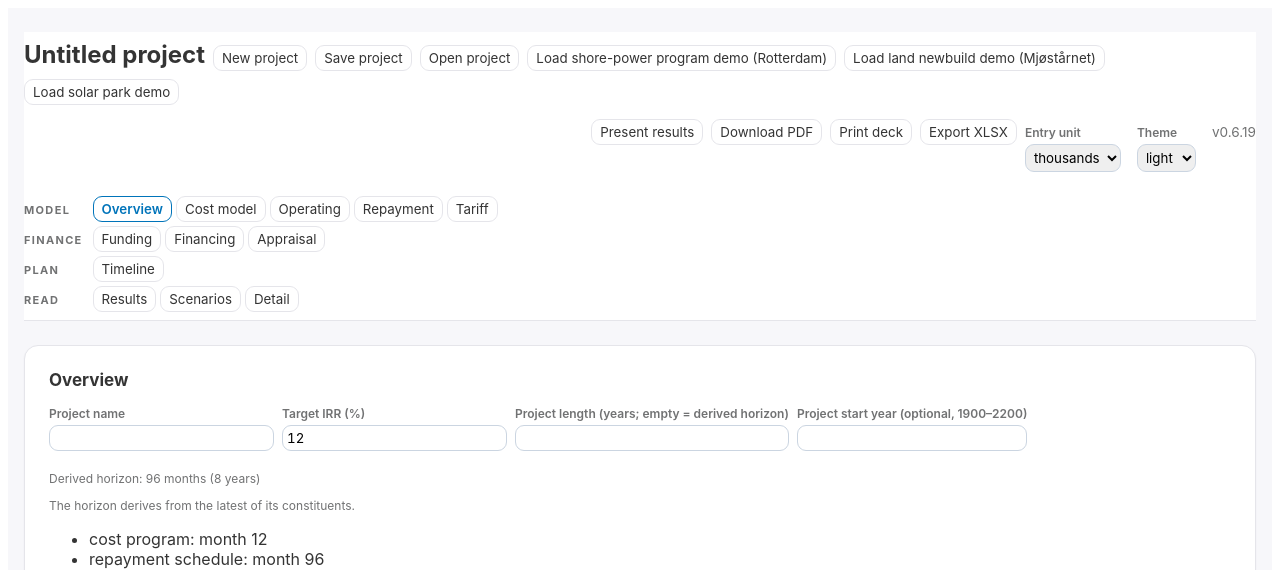
Test: v0.6.10 Task E.1: the funding worksuite surface › FUNDING-ROWS: the program fixture's funding block carries the three grants alone; the interest-free note retired into the financing facility list (v0.6.16 re-an
What coordinates should you click on to do the following:
click the button "Load shore-power program demo (Rotterdam)"
I would click on:
 (682, 58)
Its box is [527, 45, 836, 71].
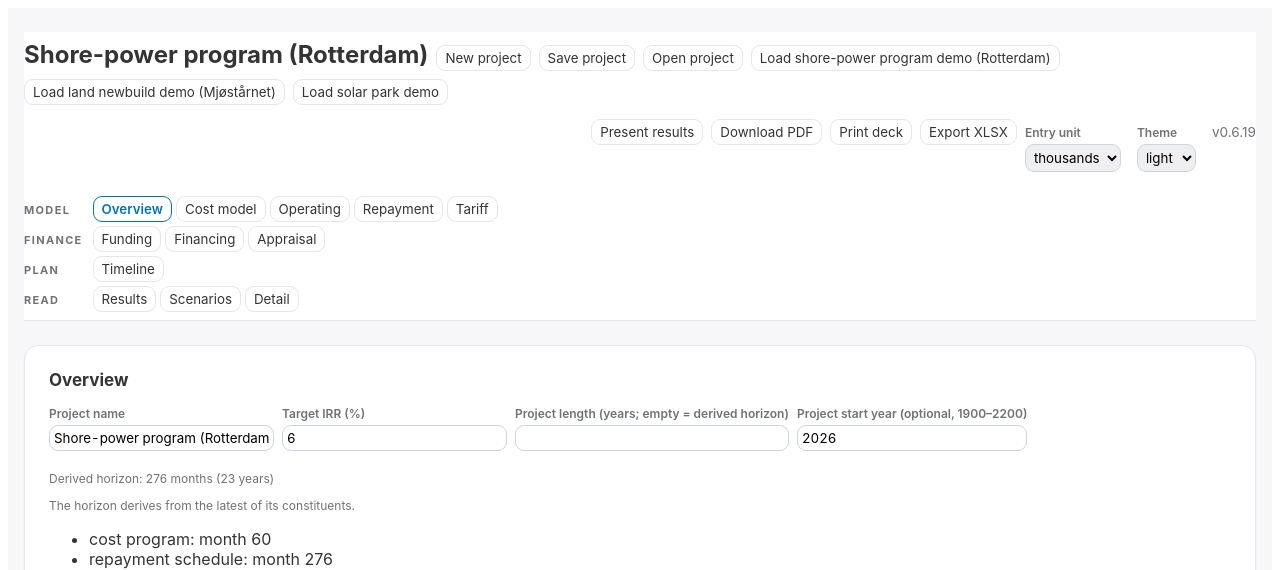
Expected: the heading "Shore-power program (Rotterdam)" is shown, [24, 40, 428, 69]
What coordinates should you click on to do the following:
click the button "Funding"
I would click on:
 (127, 239)
Its box is [92, 226, 161, 252].
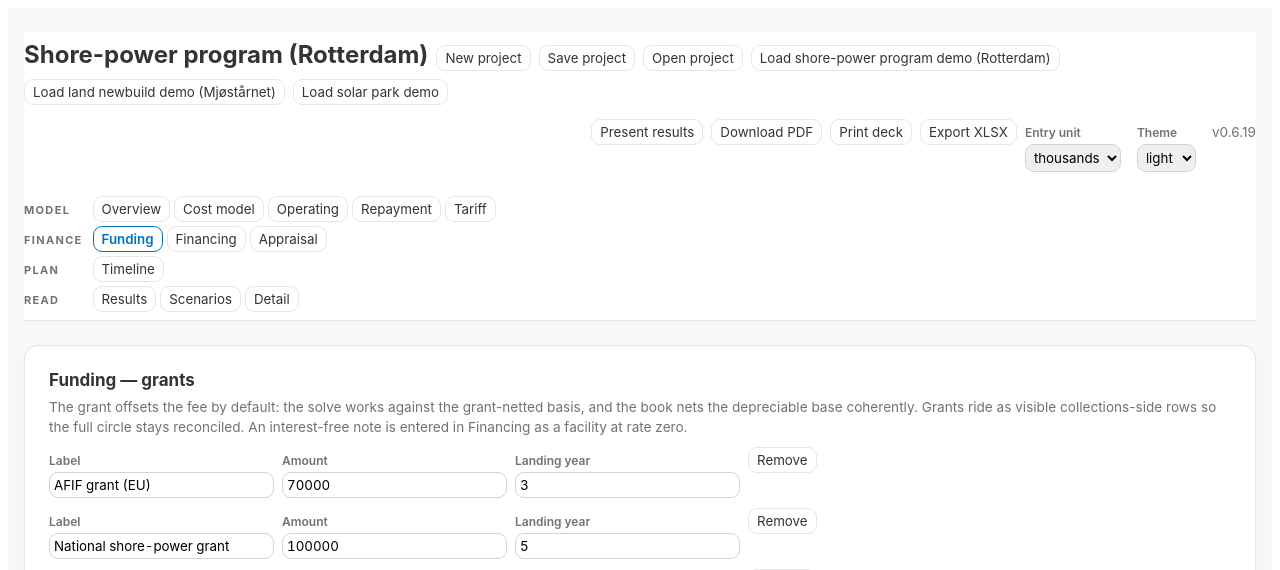
What coordinates should you click on to do the following:
click the button "Financing"
I would click on:
 (206, 239)
Its box is [166, 226, 246, 252].
(page scrolled)
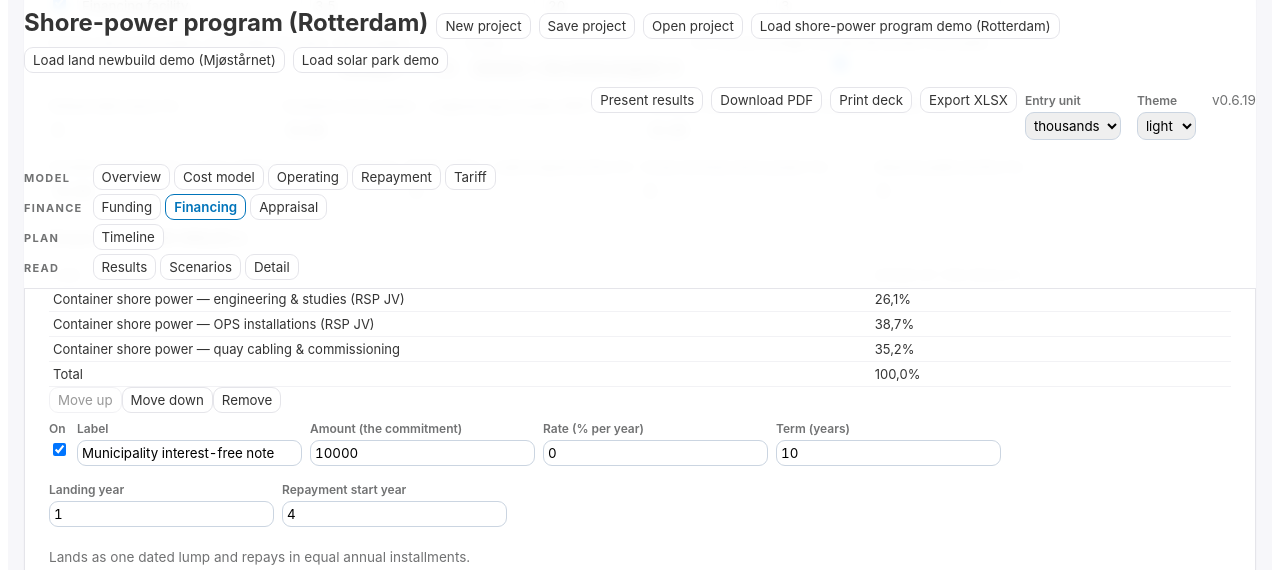
Expected: the number field labelled "Rate (% per year)" holds "0", [543, 440, 768, 466]
Expected: the number field labelled "Term (years)" holds "10", [776, 440, 1001, 466]
Expected: the number field labelled "Repayment start year" holds "4", [282, 501, 507, 527]
